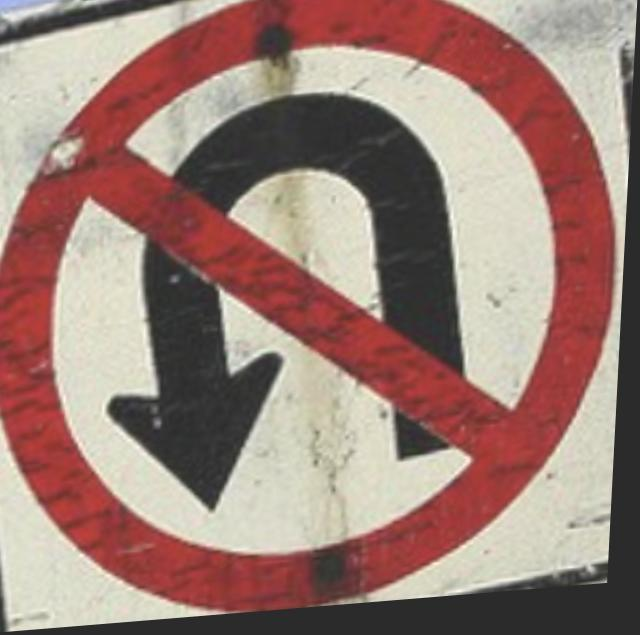not_u_turn_left: (7, 0, 629, 621)
